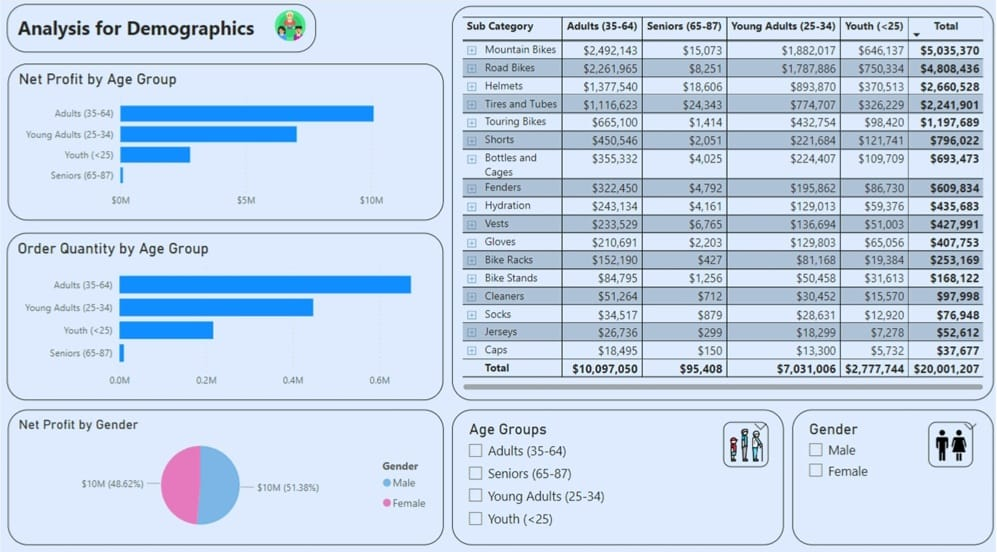

This screenshot's page, from the dashboard's own definition file:
{"tool":"powerbi","page":{"name":"Age & Gender","canvas":[1280,720],"ordinal":1},"visuals":[{"type":"clusteredBarChart","title":"Order Quantity by Age Group","fields":{"Category":["Sales.Age_Group"],"Y":["Sum(Sales.Order_Quantity)"]},"box":[10.9,302.7,557.2,213.5],"z":0},{"type":"slicer","fields":{"Values":["Sales.Customer_Gender"]},"box":[1013.1,528.2,256.9,172.5],"z":6000},{"type":"clusteredBarChart","title":"Net Profit by Age Group","fields":{"Y":["Sum(Sales.Net Profit)"],"Category":["Sales.Age_Group"]},"box":[12.1,86.8,556,200.2],"z":7000},{"type":"pieChart","title":"Net Profit by Gender","fields":{"Category":["Sales.Customer_Gender"],"Y":["Sum(Sales.Net Profit)"]},"box":[707.9,237.6,316,172.5],"z":8000},{"type":"pivotTable","fields":{"Rows":["Sales.Sub_Category","Sales.Product"],"Values":["Sum(Sales.Net Profit)"],"Columns":["Sales.Age_Group"]},"box":[578.9,13.3,691.1,502.9],"z":9000},{"type":"slicer","fields":{"Values":["Sales.Age_Group"]},"box":[578.9,528.2,423.3,172.5],"z":10000},{"type":"image","box":[925,543.9,57.9,57.9],"z":11000},{"type":"image","box":[1186.7,543.9,56.7,57.9],"z":12000},{"type":"textbox","box":[10.9,10.9,394.4,61.5],"z":13000},{"type":"image","box":[347.3,13.3,49.4,49.4],"z":14000},{"type":"pieChart","title":"Net Profit by Gender","fields":{"Category":["Sales.Customer_Gender"],"Y":["Sum(Sales.Net Profit)"]},"box":[12.1,528.2,556,172.5],"z":15000}]}

Visuals, with their boxes in screenshot pixels (x1, y1, x2, y2), scaled from the page's 1280x720 canvas onto the 997x552 screenshot:
"Order Quantity by Age Group" clusteredBarChart: l=8, t=232, r=442, b=396
slicer - Sales.Customer_Gender: l=789, t=405, r=989, b=537
"Net Profit by Age Group" clusteredBarChart: l=9, t=67, r=442, b=220
"Net Profit by Gender" pieChart: l=551, t=182, r=798, b=314
pivotTable - Sales.Sub_Category x Sales.Product: l=451, t=10, r=989, b=396
slicer - Sales.Age_Group: l=451, t=405, r=781, b=537
image: l=720, t=417, r=766, b=461
image: l=924, t=417, r=968, b=461
textbox: l=8, t=8, r=316, b=56
image: l=271, t=10, r=309, b=48
"Net Profit by Gender" pieChart: l=9, t=405, r=442, b=537
